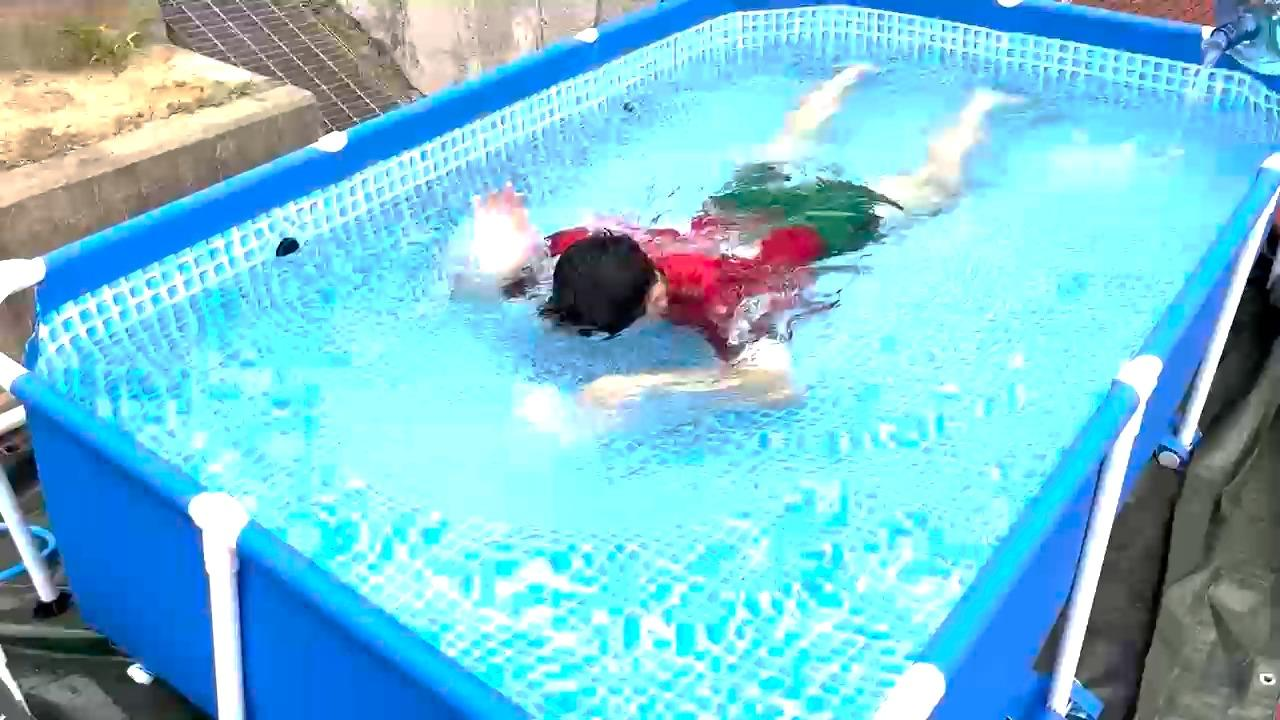Drowning: (431, 22, 1061, 454)
